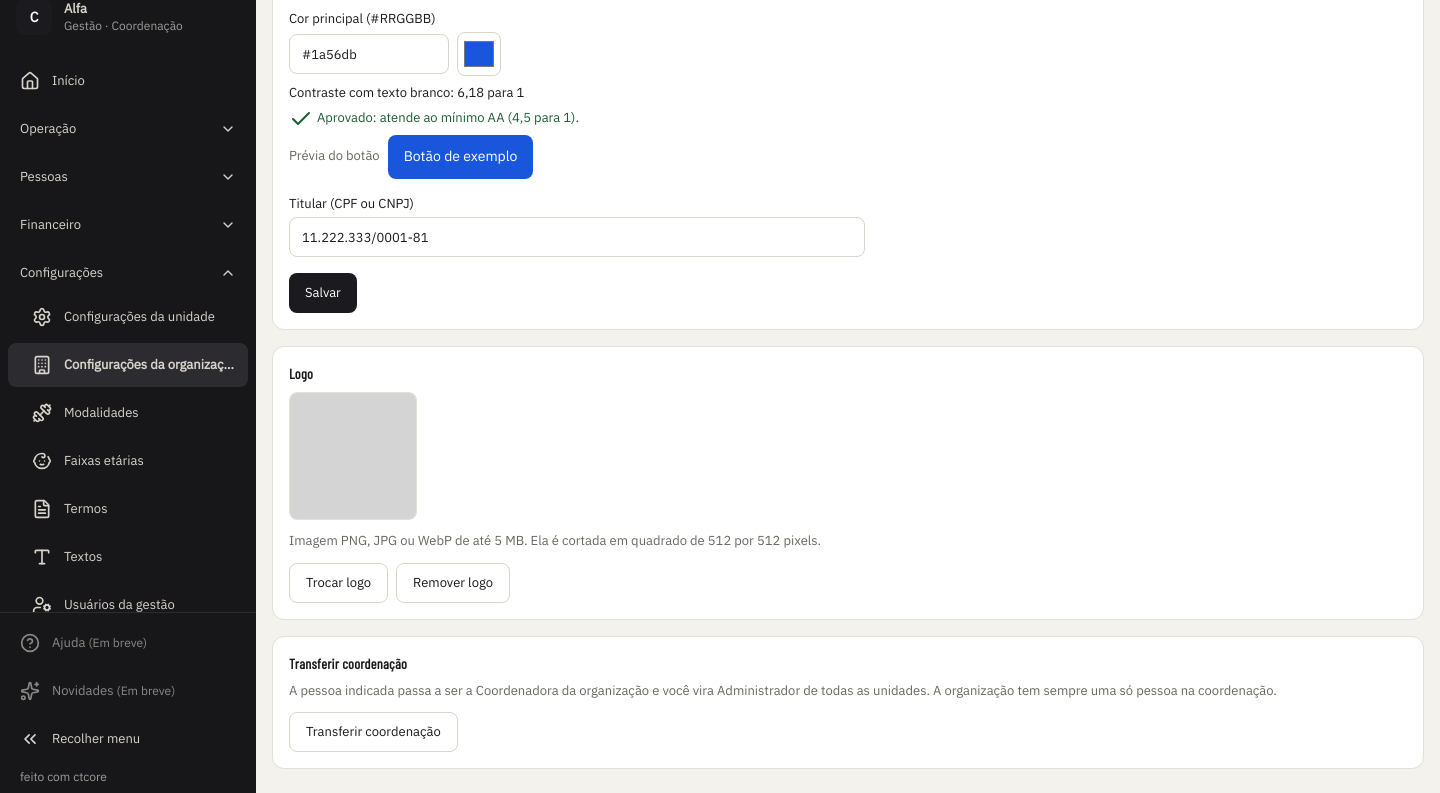
Test: OrganizationSettingsPage › CA16: Remover logo pede confirmação antes de apagar
(page scrolled)
Click the button "Remover logo" at x=453, y=583, box [396,563,510,603]
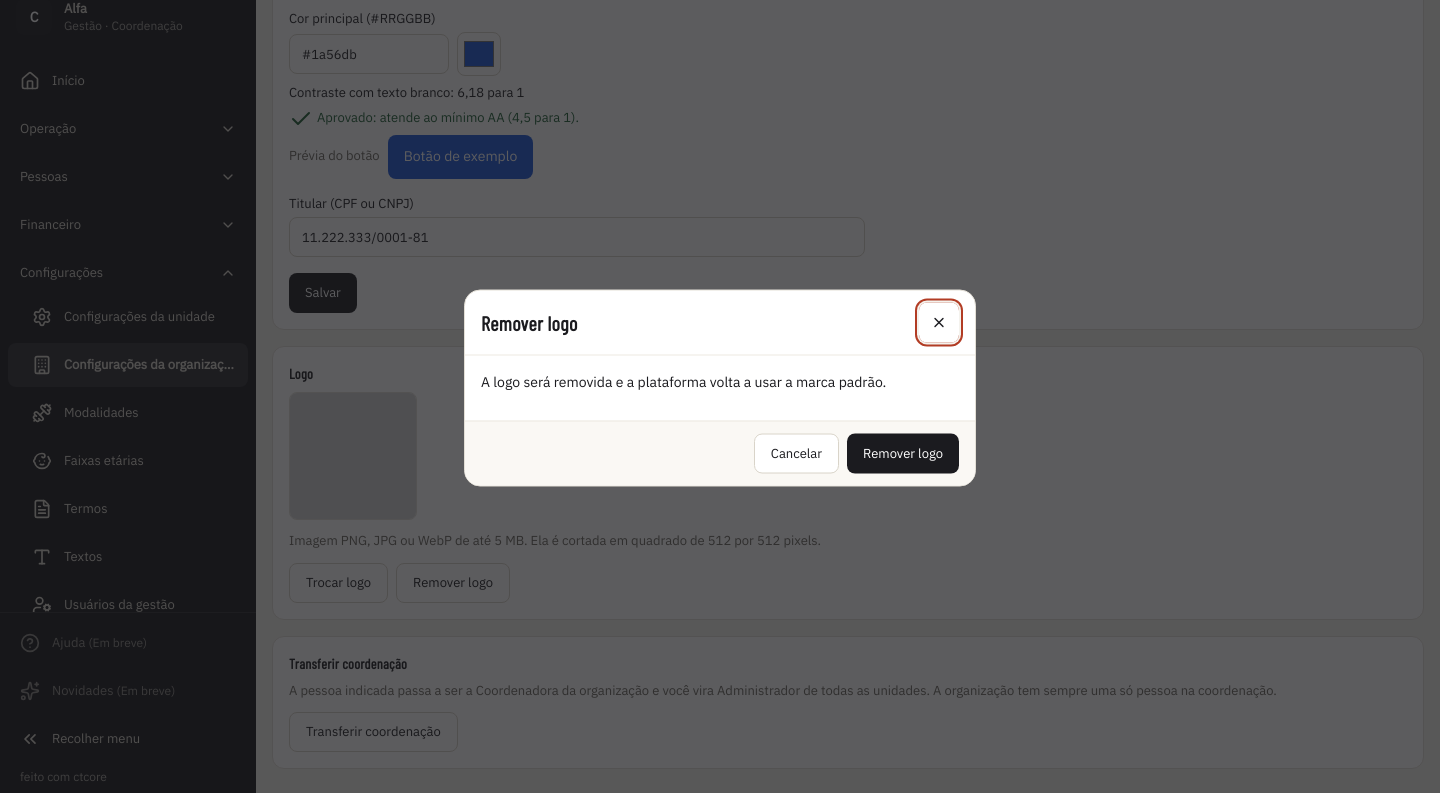
Now the dialog "Remover logo" is shown, box [464,290,976,486]
Click the button "Cancelar" at x=796, y=454, box [754,434,839,474]
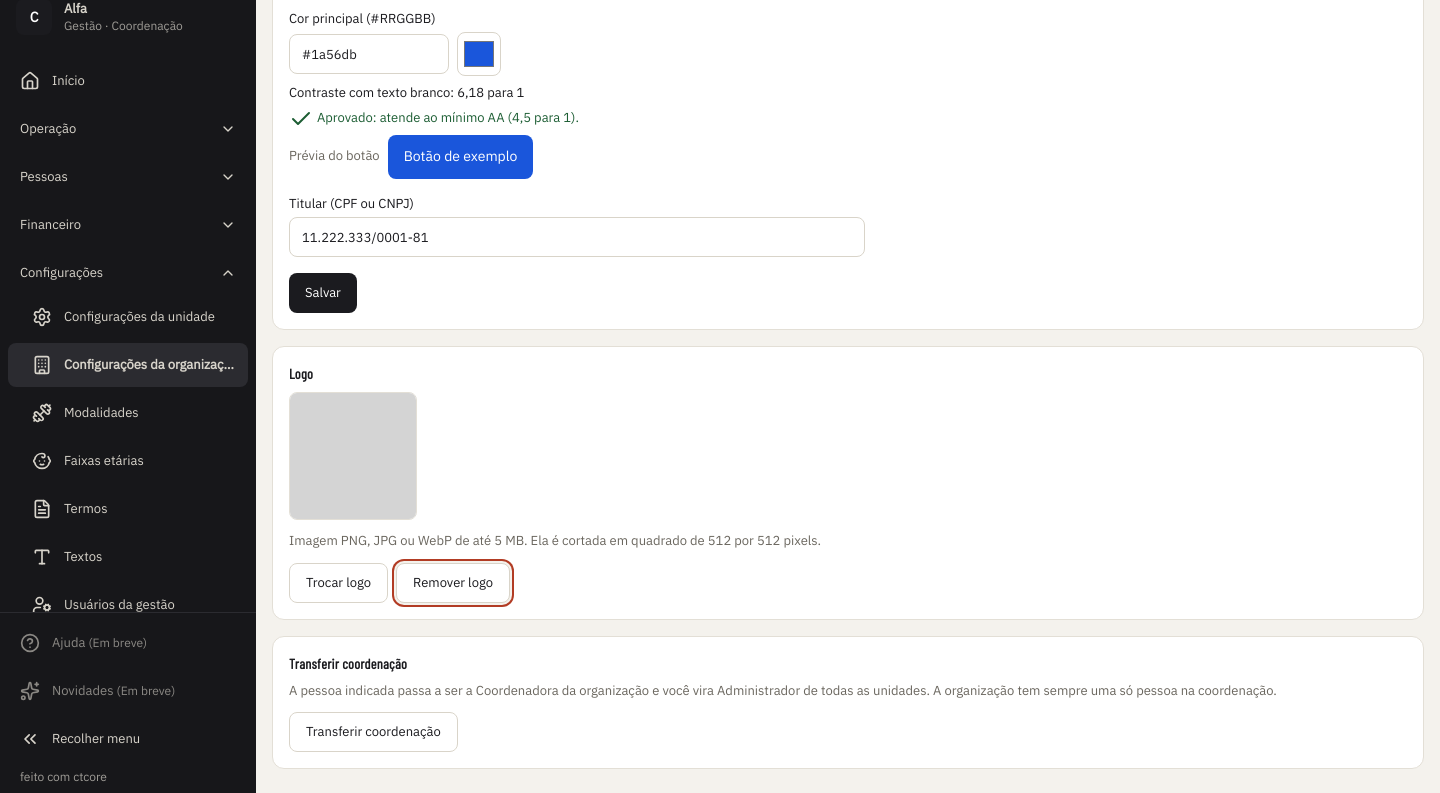
Click the button "Remover logo" at x=453, y=583, box [396,563,510,603]
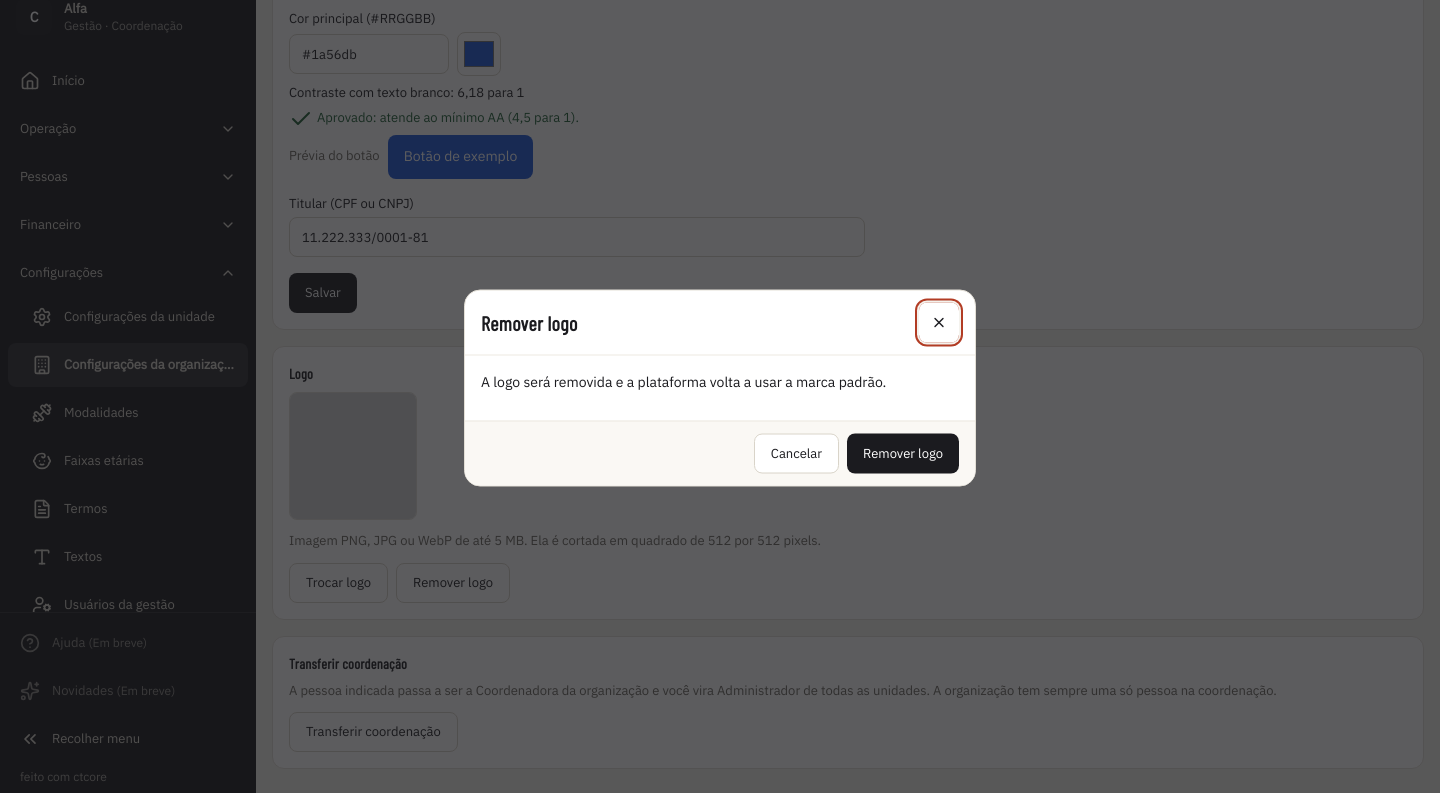
Click the button "Remover logo" at x=903, y=454, box [847,434,959,474]
(page scrolled)
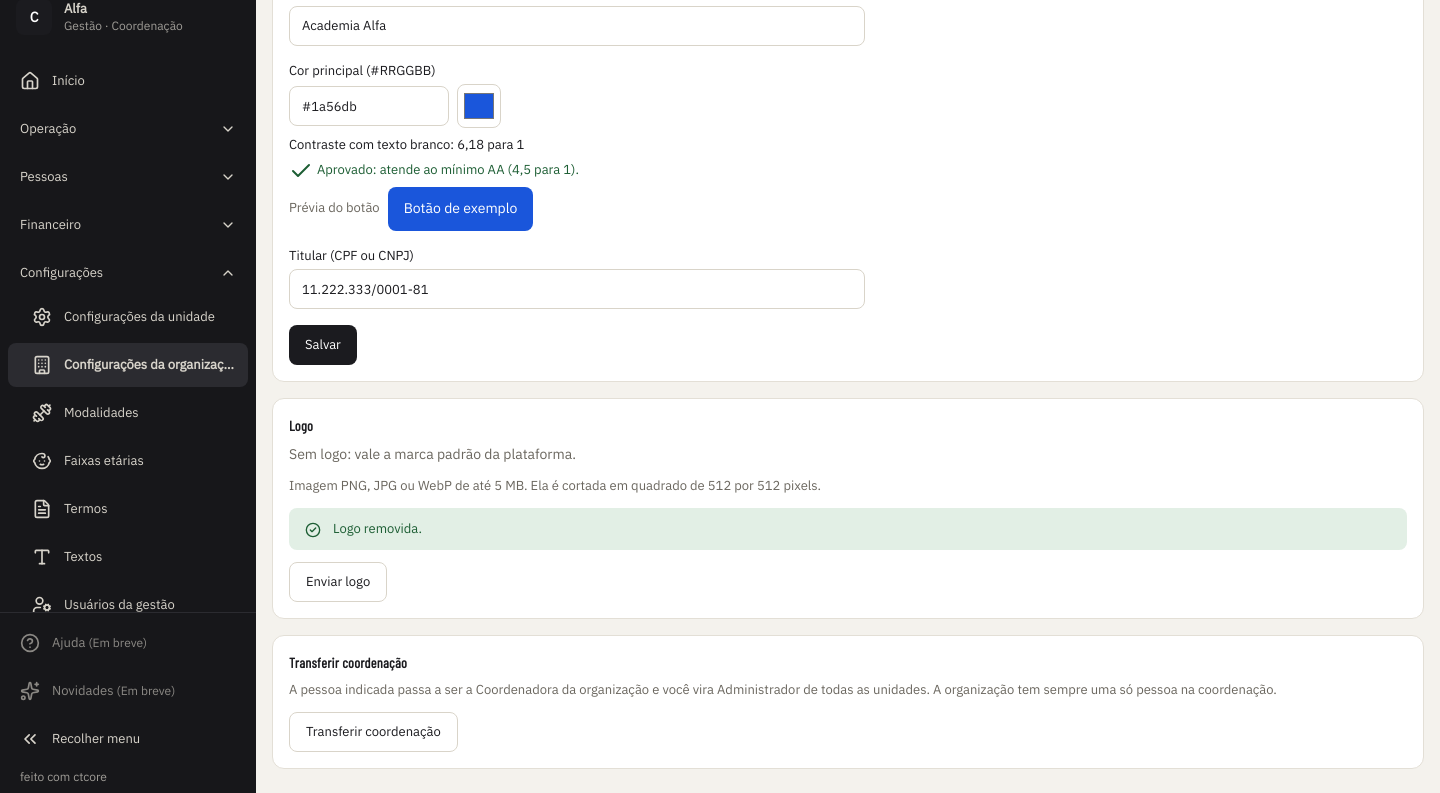
Now the text "Logo removida." is shown, box [333,520,422,538]
Now the text "Sem logo: vale a marca padrão da plataforma." is shown, box [289,445,576,463]
